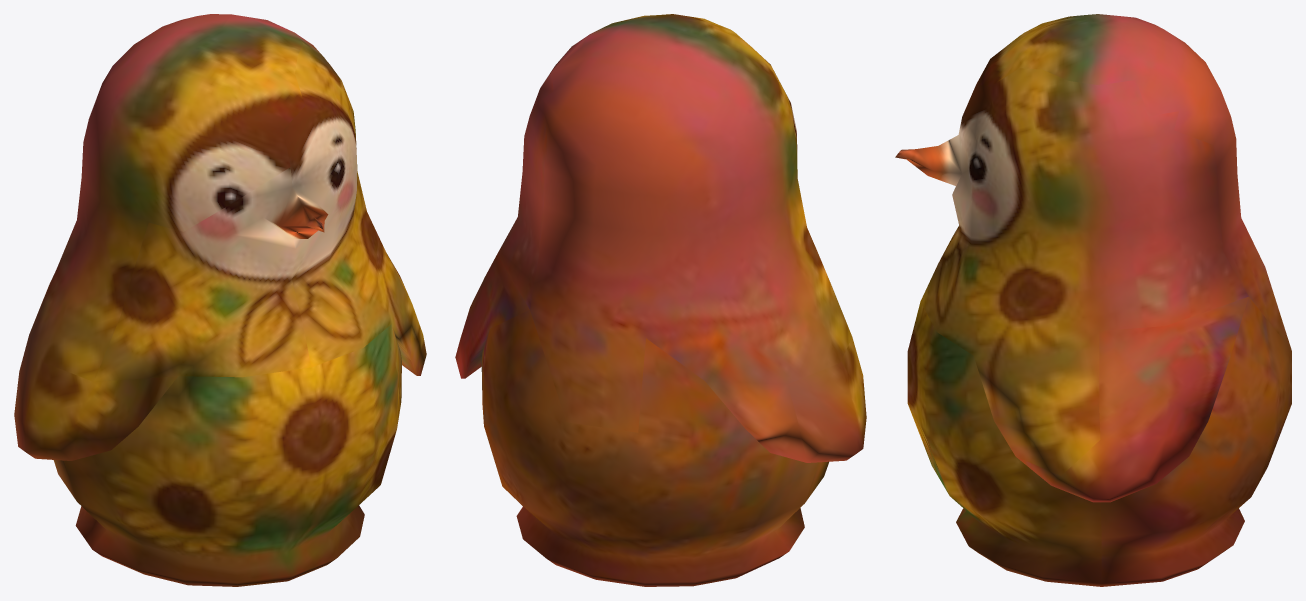
File: penguin-06-22-sunflower-penguin-doll.gltf
The picture shows the model from 3 angles, left to right: view 1: azimuth 30°, elevation 25°; view 2: azimuth 150°, elevation 25°; view 3: azimuth 270°, elevation 25°; orthographic projection.
Visible parts, largest first — view 1: penguin-06-22-sunflower-penguin-doll; view 2: penguin-06-22-sunflower-penguin-doll; view 3: penguin-06-22-sunflower-penguin-doll.
Part boxes in pixels (<box>): penguin-06-22-sunflower-penguin-doll: <box>14,14,426,586</box>; penguin-06-22-sunflower-penguin-doll: <box>455,14,866,586</box>; penguin-06-22-sunflower-penguin-doll: <box>895,14,1291,586</box>.
Size of the model in its own units: 0.2 by 0.2497 by 0.173.
1 material, 1 textured.
